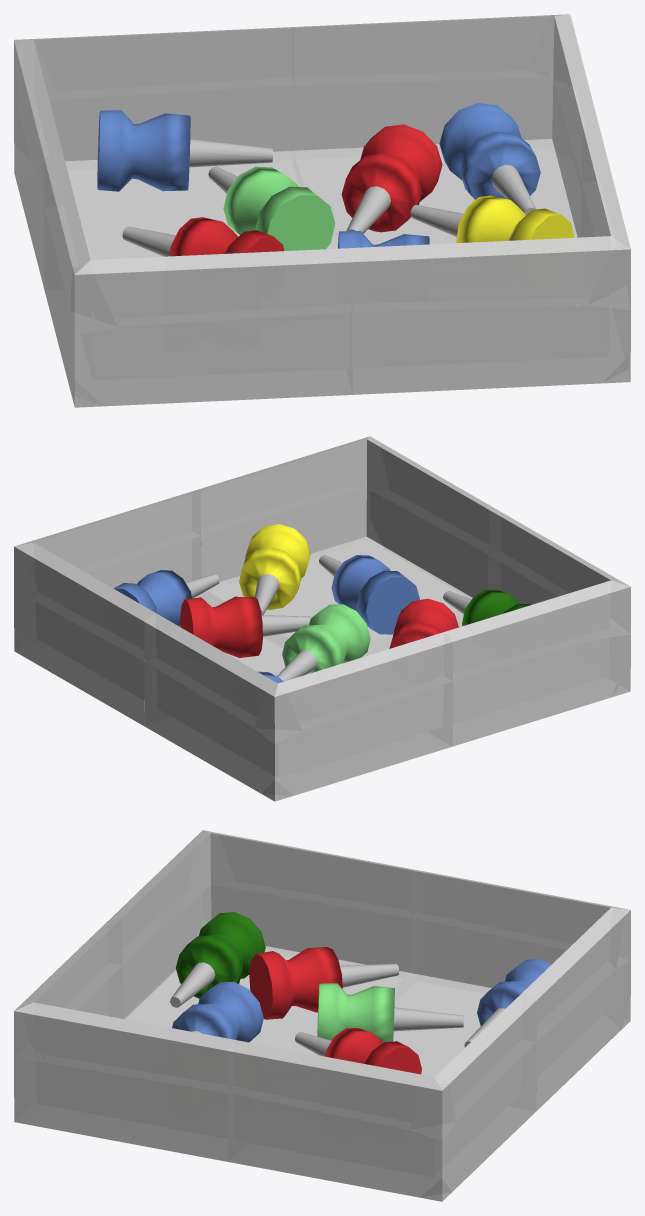
The model's file is pinBox.fbx.
3 views of the same model, one above another, from view 1: azimuth 30°, elevation 25°; view 2: azimuth 150°, elevation 25°; view 3: azimuth 270°, elevation 25° (orthographic). The views are drawn at different scales.
Visible parts, largest first — view 1: box_for_pins_cell.014, box_for_pins_cell.012, box_for_pins_cell.011, box_for_pins_cell.013, box_for_pins_cell.015, box_for_pins_cell.010, box_for_pins_cell.009, box_for_pins_cell.007, pin.001, pin.003, pin.004, pin.002 (+5 smaller); view 2: box_for_pins_cell.012, box_for_pins_cell.013, box_for_pins_cell.007, box_for_pins_cell.010, box_for_pins_cell.015, box_for_pins_cell.009, box_for_pins_cell.014, box_for_pins_cell.011, pin.003, pin.006, pin.005, pin.002 (+6 smaller); view 3: box_for_pins_cell.011, box_for_pins_cell.012, box_for_pins_cell.014, box_for_pins_cell.009, box_for_pins_cell.013, box_for_pins_cell.015, box_for_pins_cell.010, box_for_pins_cell.007, pin.007, pin.008, pin.002, pin.006 (+5 smaller).
Part boxes in pixels (bbox=[...]): box_for_pins_cell.014: bbox=[44, 208, 352, 407]; box_for_pins_cell.012: bbox=[14, 85, 303, 288]; box_for_pins_cell.011: bbox=[294, 77, 581, 249]; box_for_pins_cell.013: bbox=[352, 183, 630, 394]; box_for_pins_cell.015: bbox=[44, 150, 352, 326]; box_for_pins_cell.010: bbox=[350, 126, 628, 312]; box_for_pins_cell.009: bbox=[292, 15, 600, 181]; box_for_pins_cell.007: bbox=[16, 27, 294, 206]; pin.001: bbox=[97, 110, 272, 191]; pin.003: bbox=[341, 124, 442, 233]; pin.004: bbox=[439, 103, 540, 214]; pin.002: bbox=[208, 166, 335, 250]; box_for_pins_cell.012: bbox=[144, 661, 452, 801]; box_for_pins_cell.013: bbox=[201, 488, 488, 642]; box_for_pins_cell.007: bbox=[144, 613, 452, 730]; box_for_pins_cell.010: bbox=[193, 438, 499, 554]; box_for_pins_cell.015: bbox=[445, 510, 621, 681]; box_for_pins_cell.009: bbox=[23, 491, 200, 661]; box_for_pins_cell.014: bbox=[361, 555, 630, 746]; box_for_pins_cell.011: bbox=[14, 536, 288, 726]; pin.003: bbox=[180, 596, 312, 657]; pin.006: bbox=[319, 555, 419, 634]; pin.005: bbox=[239, 524, 310, 614]; pin.002: bbox=[277, 604, 370, 681]; box_for_pins_cell.011: bbox=[228, 1042, 536, 1201]; box_for_pins_cell.012: bbox=[393, 918, 630, 1110]; box_for_pins_cell.014: bbox=[123, 885, 410, 1055]; box_for_pins_cell.009: bbox=[228, 992, 536, 1129]; box_for_pins_cell.013: bbox=[14, 965, 228, 1161]; box_for_pins_cell.015: bbox=[109, 831, 415, 964]; box_for_pins_cell.010: bbox=[21, 917, 233, 1092]; box_for_pins_cell.007: bbox=[410, 870, 624, 1041]; pin.007: bbox=[249, 947, 399, 1019]; pin.008: bbox=[170, 912, 265, 1007]; pin.002: bbox=[317, 983, 463, 1042]; pin.006: bbox=[172, 981, 263, 1042].
Size of the model in its own units: 2.69 by 2.69 by 0.561.
